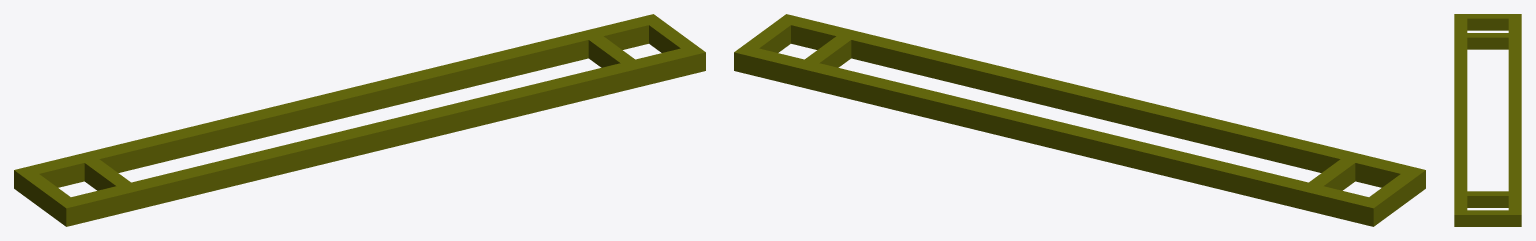
The model's file is SM_Crane-CrossFrame_E.fbx.
3 views of the same model, side by side, from view 1: azimuth 30°, elevation 25°; view 2: azimuth 150°, elevation 25°; view 3: azimuth 270°, elevation 25° (orthographic). The views are drawn at different scales.
Visible parts, largest first — view 1: SM_Crane-CrossFrame_E; view 2: SM_Crane-CrossFrame_E; view 3: SM_Crane-CrossFrame_E.
Boxes of the visible parts, x1,y1,x2,y2 form: SM_Crane-CrossFrame_E: [14, 14, 705, 226]; SM_Crane-CrossFrame_E: [734, 14, 1425, 226]; SM_Crane-CrossFrame_E: [1454, 14, 1521, 226].
Bounding box in the file's own units: 1800 × 255 × 50.
